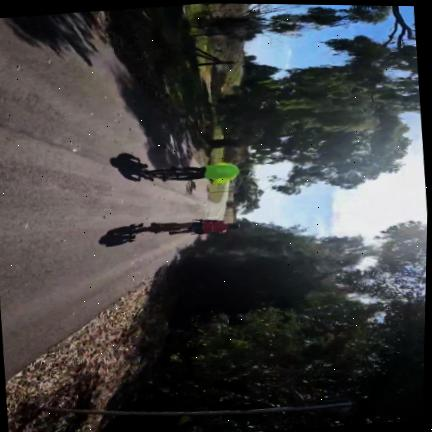Bike_Lane: (0, 55, 223, 379)
